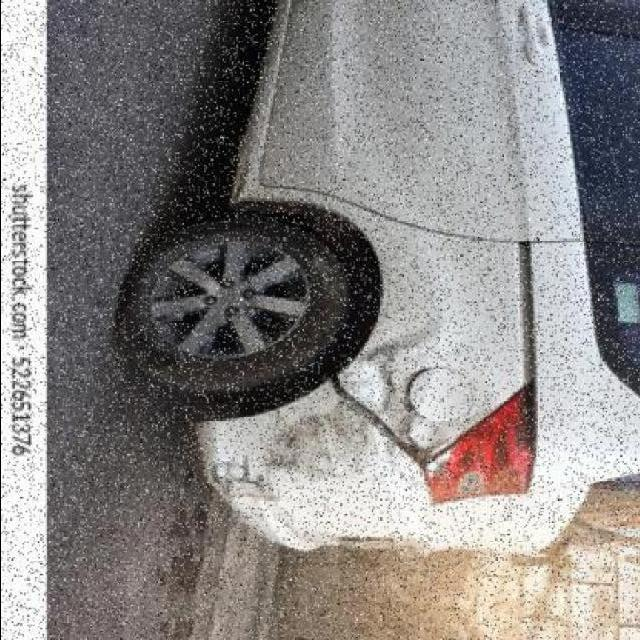quaterpanel-dent: (326, 230, 532, 429)
rear-bumper-dent: (193, 383, 424, 590)
